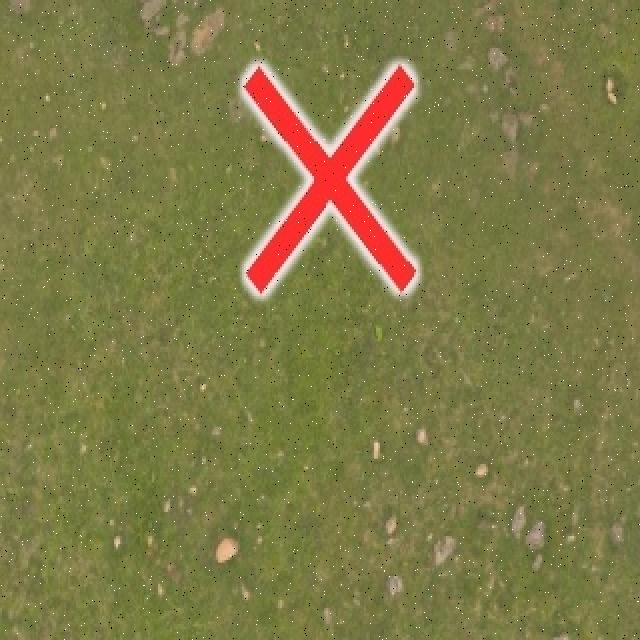x_marker: (243, 66, 415, 292)
